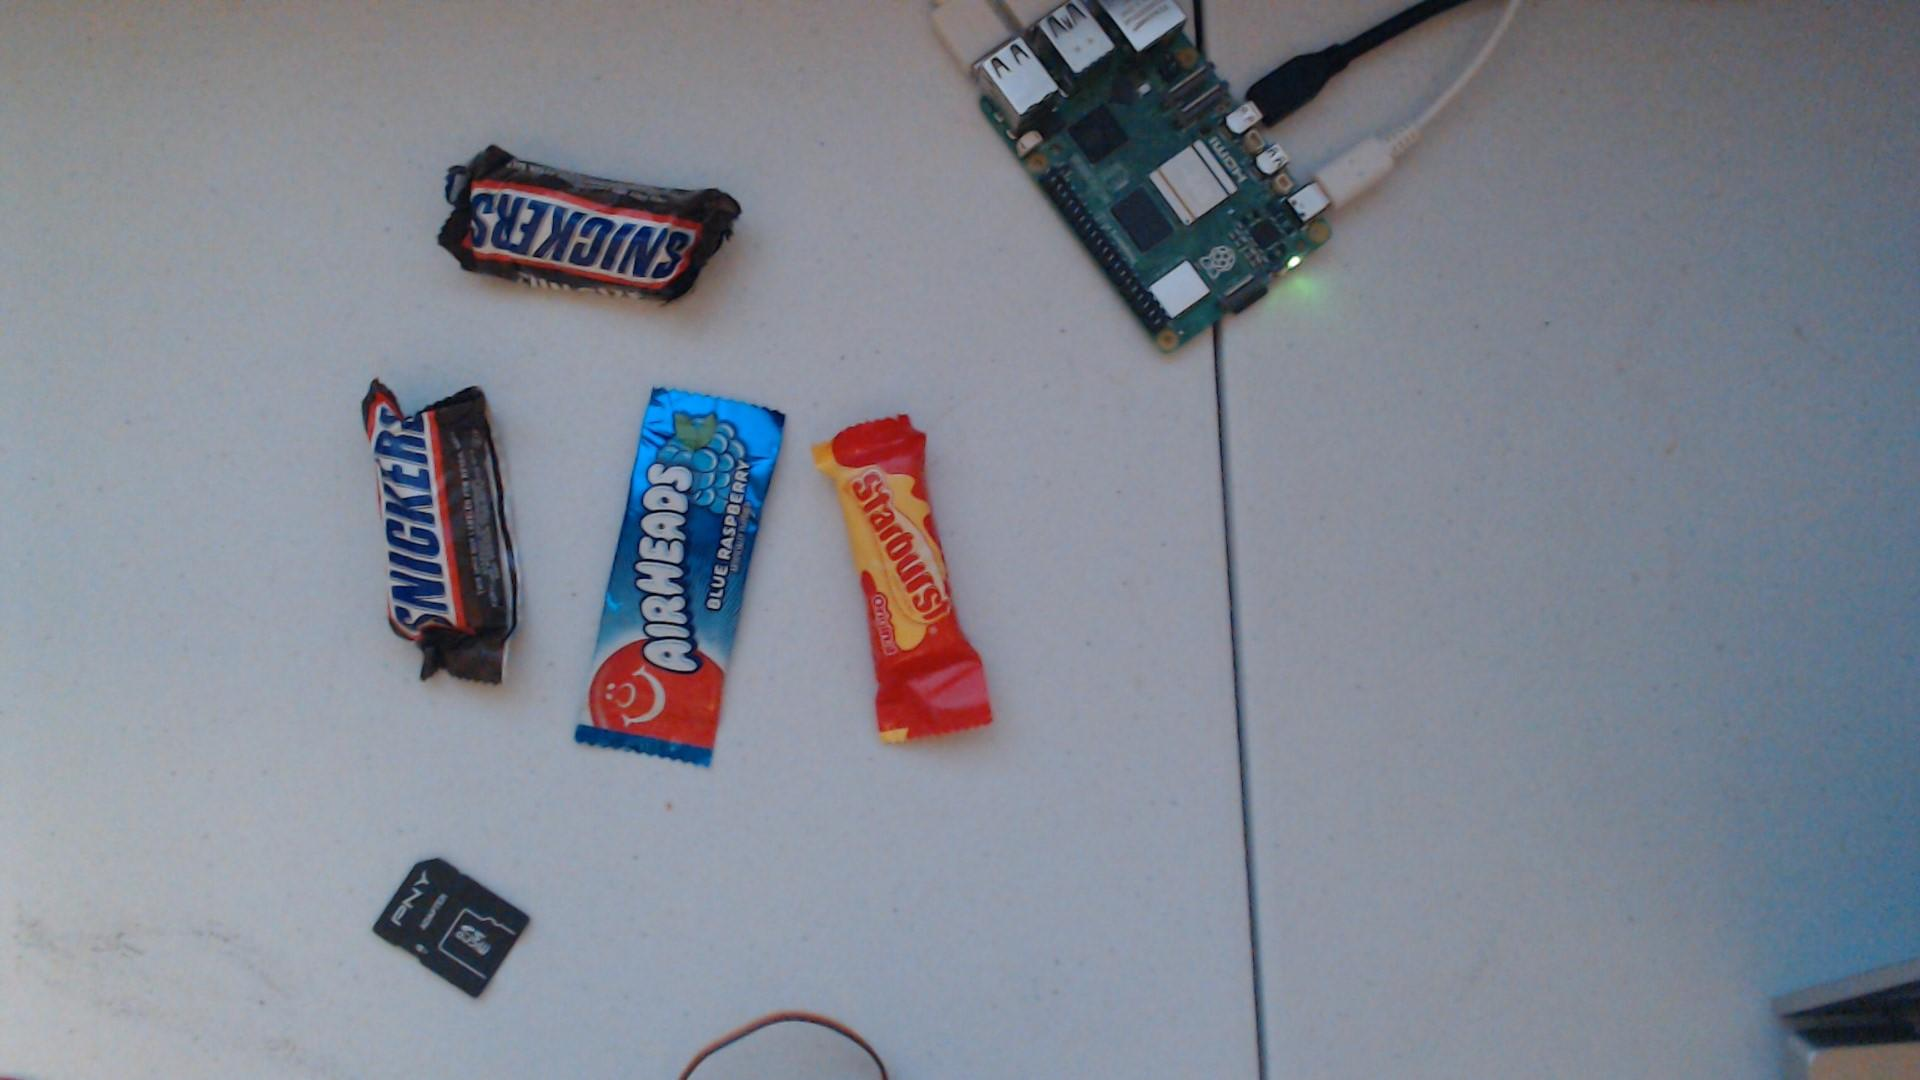Snickers: (438, 145, 749, 306), (361, 376, 521, 686)
airheads: (567, 385, 785, 769)
starburst: (819, 413, 994, 748)
